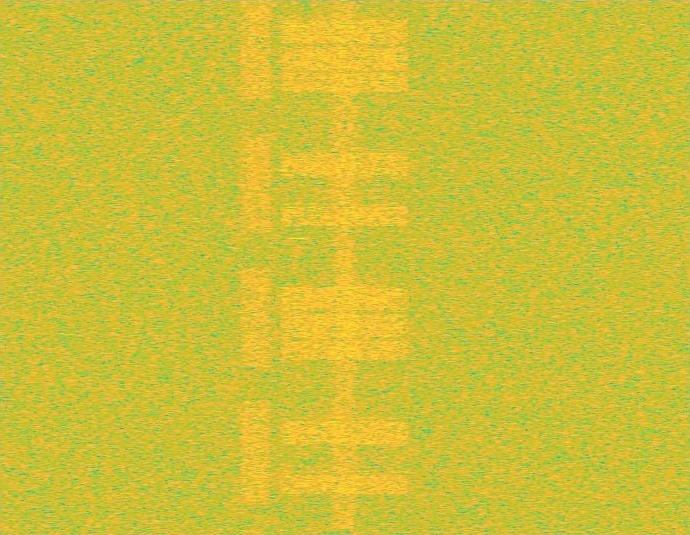5G: (239, 0, 273, 534)
DSSS: (329, 0, 360, 534)
LTE: (276, 0, 414, 534)
Radar: (290, 0, 304, 534)
